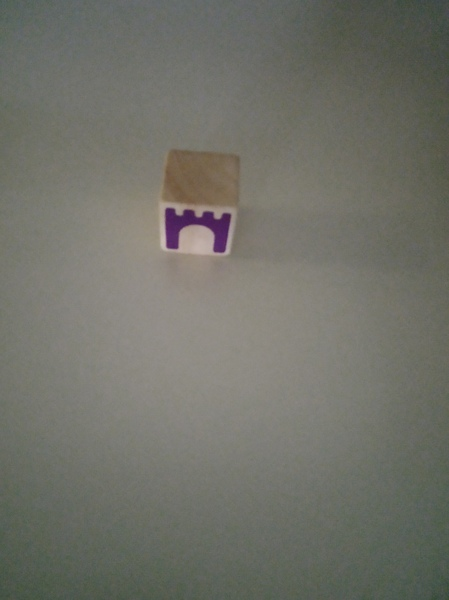violet: (159, 148, 244, 259)
